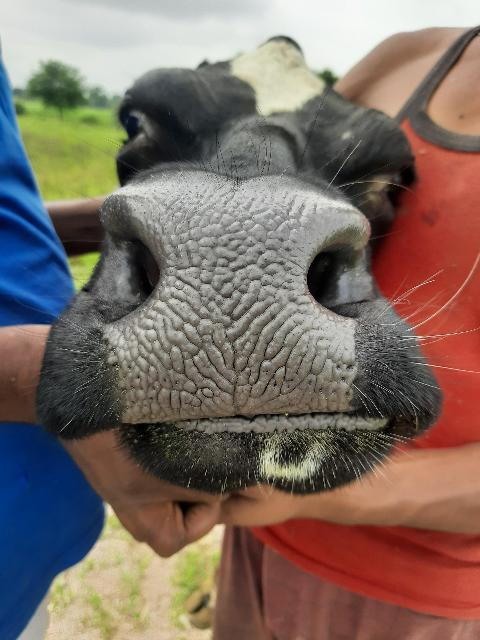Muzzle: (120, 187, 354, 419)
